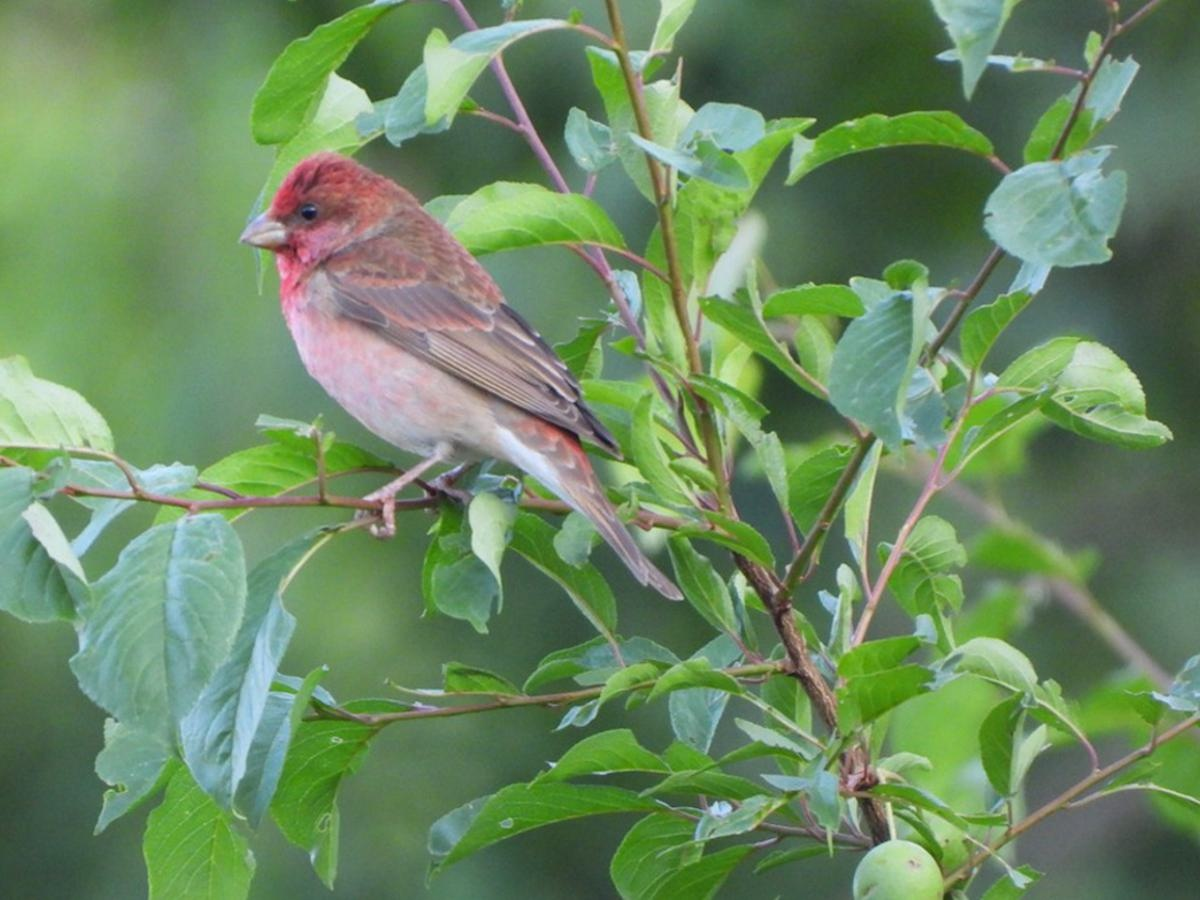rosefinch: (243, 151, 647, 618)
